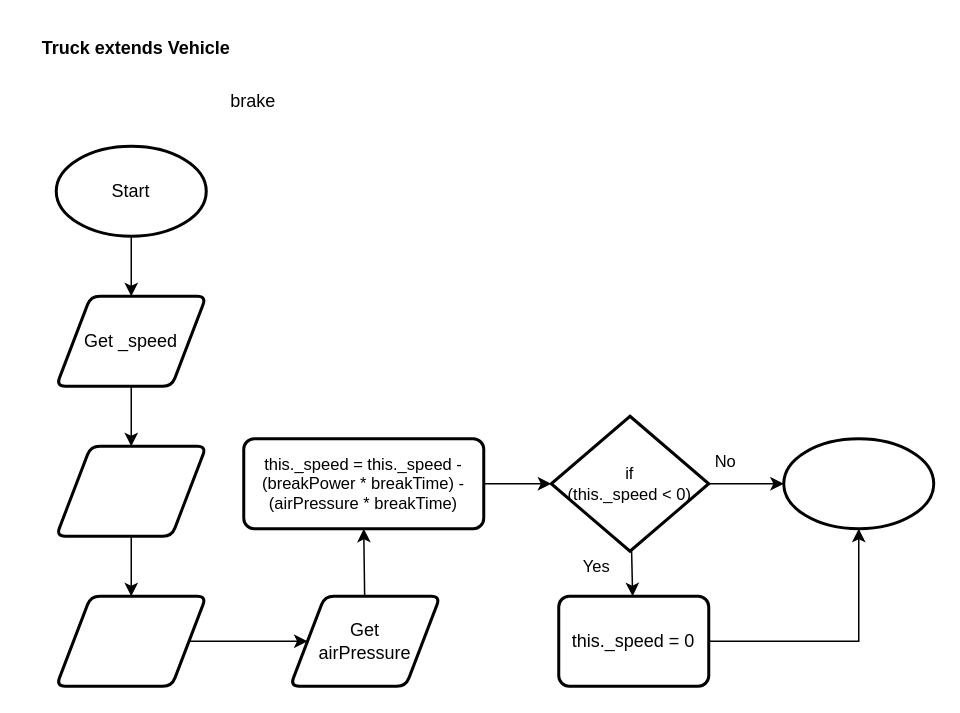
Image size: 960x713. Some labels were removed from this diagram. The shapes that lost their labels are listed below. From the top down, each one's centre as x and y in pixels, then its label:
At point (130, 490): "Get brakePower".
At point (858, 483): "Stop".
At point (130, 640): "Get brakeTime".
